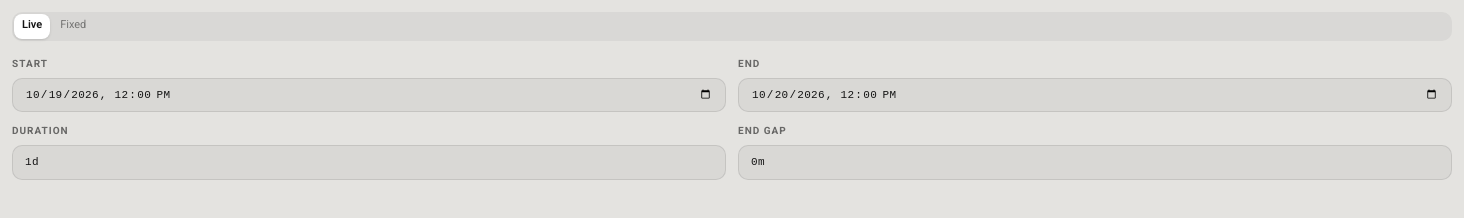
Scenario: ahead of now › a negative End gap is refused where ahead is not allowed
This screenshot has width=1464, height=218.
Replace the text in the field labelled "End gap" with "-2d": (1095, 162) left=738, top=145, right=1452, bottom=180
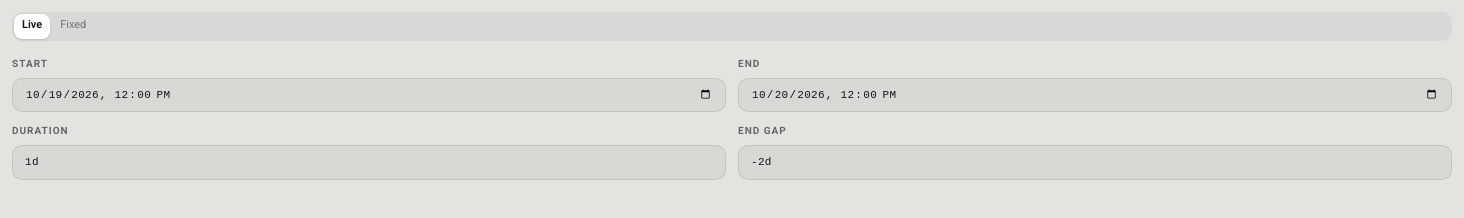
Press Enter in the field labelled "End gap", box left=738, top=145, right=1452, bottom=180
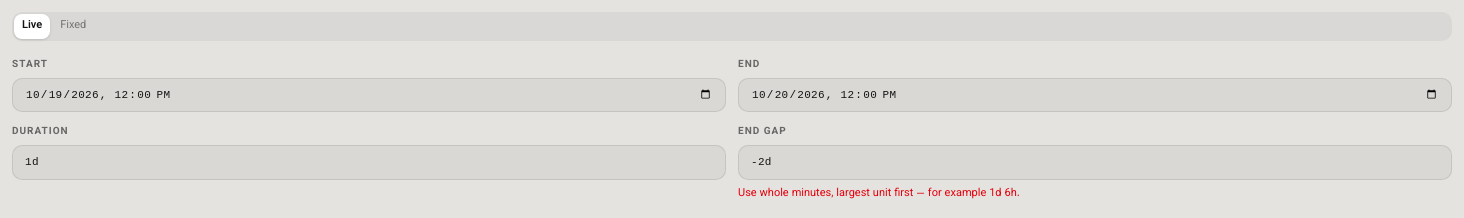
Result: the message shows "whole minutes" at left=738, top=184, right=1020, bottom=202
